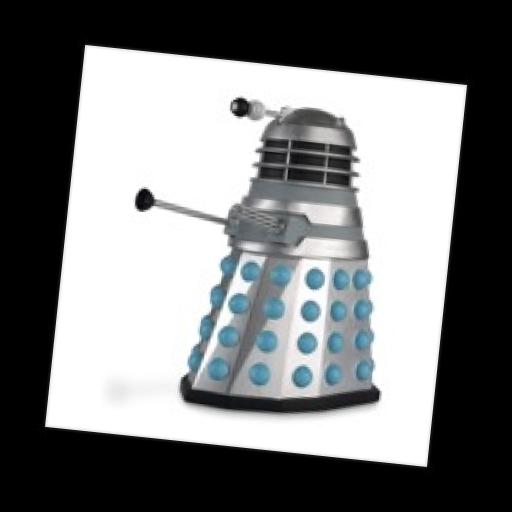dalek: (106, 72, 420, 424)
